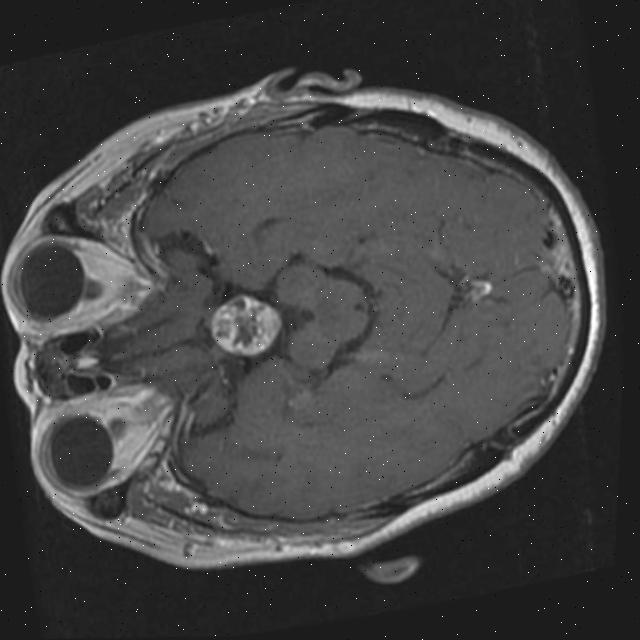Pituitary: (204, 286, 288, 361)
